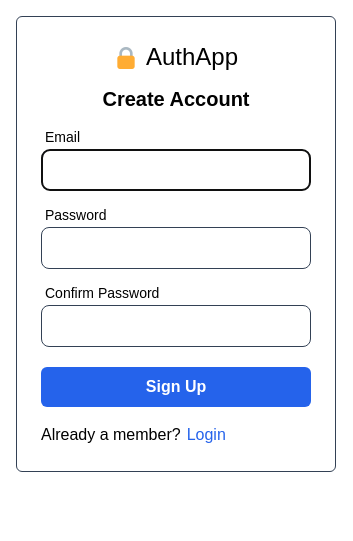
Test: AccountApp › register › error handling › shows error text if no status or message
Expected: the heading "AuthApp" is shown, [146,41,238,73]
Type "user@example.com" into the field labelled "Email" at (176, 170), box [41,149,311,191]
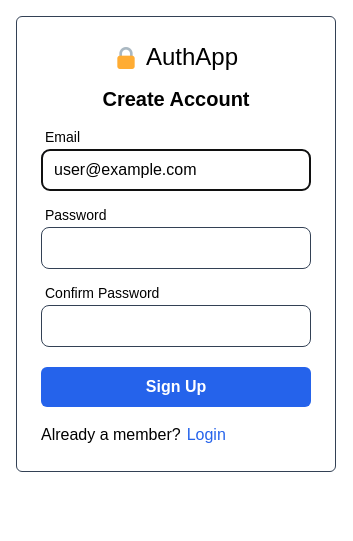
Type "Passw0rd" into the password field labelled "Password" at (176, 248), box [41,227,311,269]
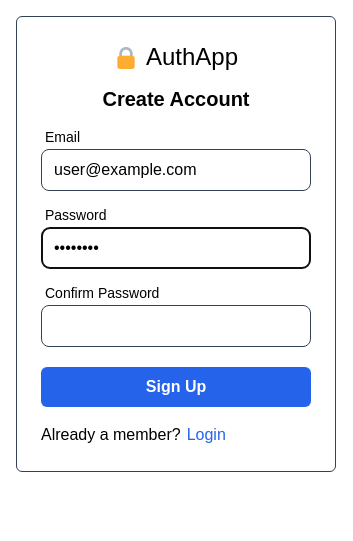
Type "Passw0rd" into the password field labelled "Confirm Password" at (176, 326), box [41,305,311,347]
Then press Enter
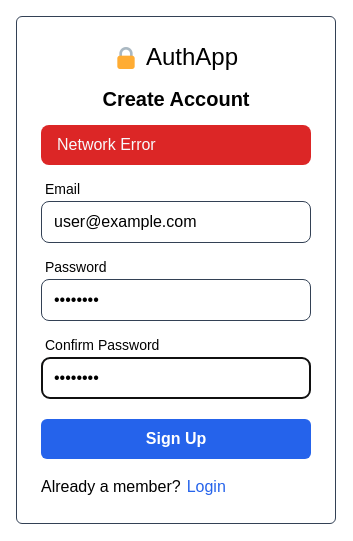
Now the text "Network Error" is shown, box [41,125,311,165]
